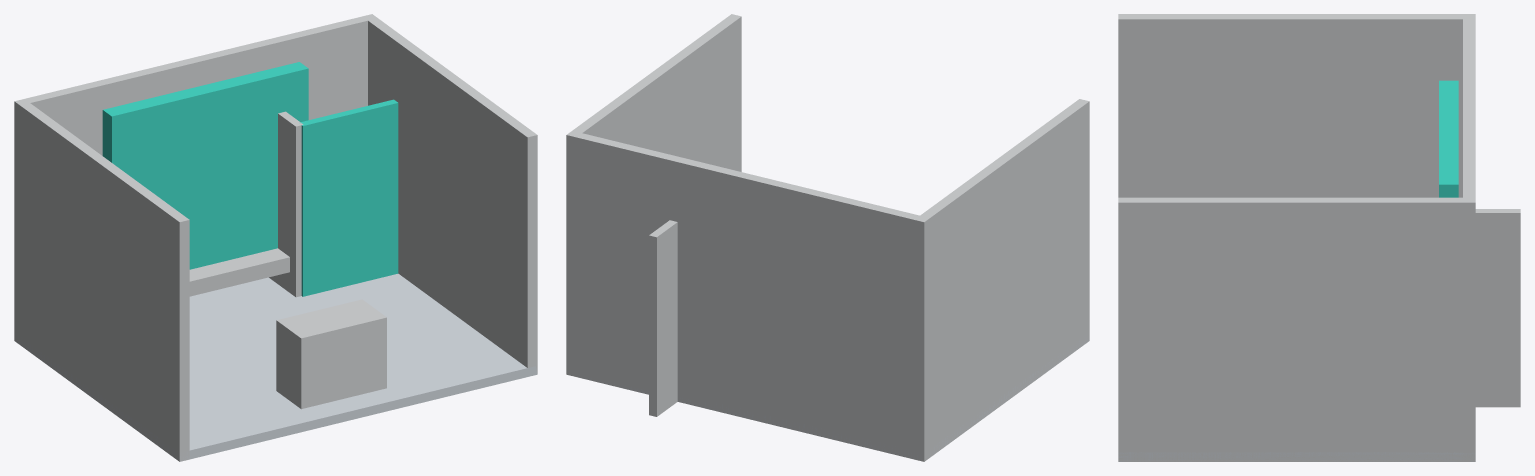
3 renders of one model, left to right at view 1: azimuth 30°, elevation 25°; view 2: azimuth 150°, elevation 25°; view 3: azimuth 270°, elevation 25°, orthographic. The views are drawn at different scales.
Parts seen in each view (by area): view 1: Exhibition Booth Concept; view 2: Exhibition Booth Concept; view 3: Exhibition Booth Concept.
Part boxes in pixels (left/top/right/bottom): Exhibition Booth Concept: left=14, top=14, right=537, bottom=461; Exhibition Booth Concept: left=566, top=14, right=1089, bottom=461; Exhibition Booth Concept: left=1118, top=14, right=1520, bottom=461.
Bounding box in the file's own units: 5 × 3.2 × 4.51.
